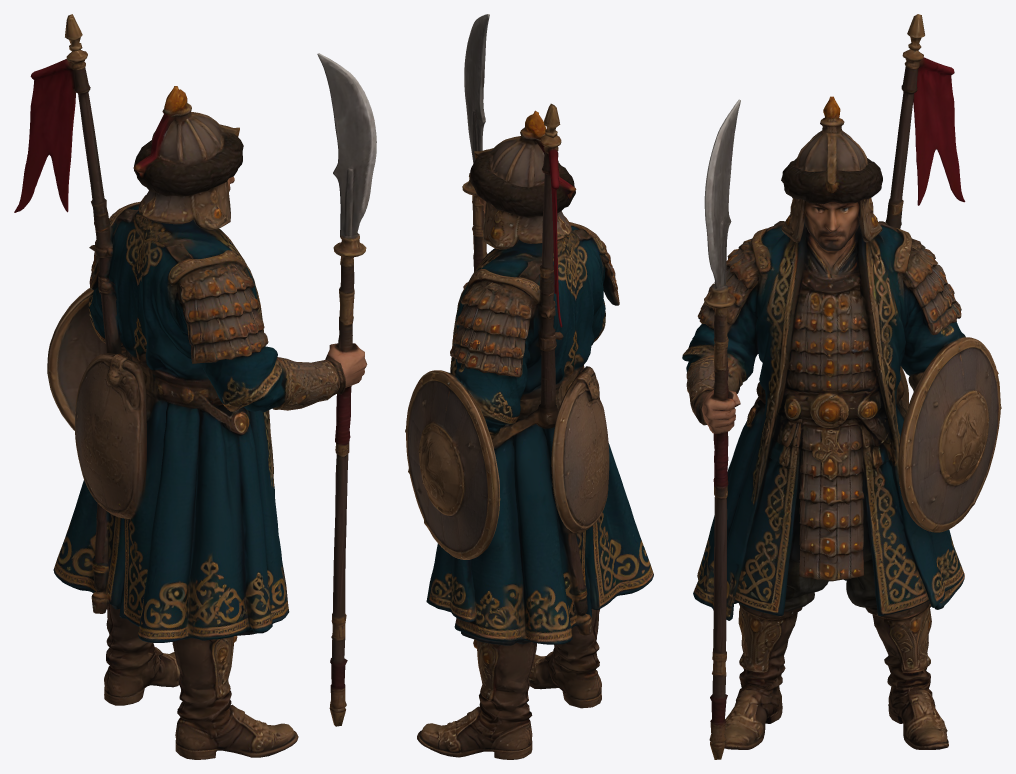
File: vanguard-AmberRoad-tripo.glb
The picture shows the model from 3 angles, left to right: view 1: azimuth 30°, elevation 25°; view 2: azimuth 150°, elevation 25°; view 3: azimuth 270°, elevation 25°; orthographic projection. The views are drawn at different scales.
Parts seen in each view (by area): view 1: tripo_node_fd4dcb8d-ce7c-4af1-9745-9694892c0f83; view 2: tripo_node_fd4dcb8d-ce7c-4af1-9745-9694892c0f83; view 3: tripo_node_fd4dcb8d-ce7c-4af1-9745-9694892c0f83.
Boxes of the visible parts, bbox=[...] form: tripo_node_fd4dcb8d-ce7c-4af1-9745-9694892c0f83: bbox=[14, 14, 376, 759]; tripo_node_fd4dcb8d-ce7c-4af1-9745-9694892c0f83: bbox=[405, 14, 653, 759]; tripo_node_fd4dcb8d-ce7c-4af1-9745-9694892c0f83: bbox=[682, 14, 1001, 759].
Bounding box in the file's own units: 0.3496 × 1 × 0.424.
Materials: 1 (1 with a texture image).
